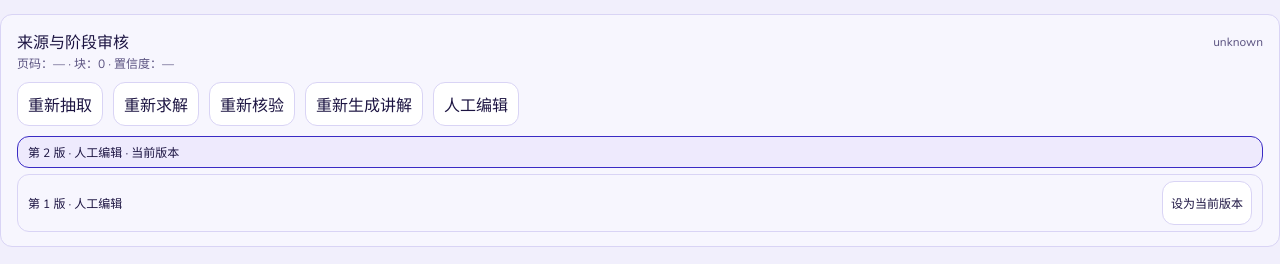
it: QuestionReviewPanel › 历史版本列表可以把某个旧版本设为当前版本
Expected: the list item "第 1 版 · 人工编辑 设为当前版本" is shown, x1=17 y1=174 x2=1263 y2=232
Click the button "设为当前版本": click(1207, 203) x1=1162 y1=181 x2=1252 y2=225
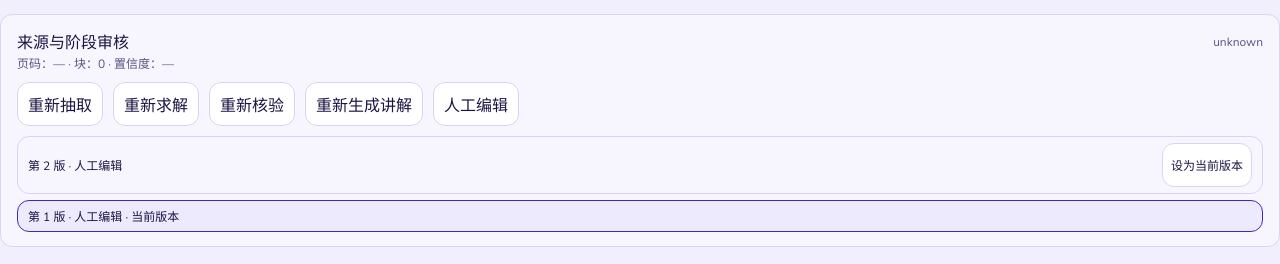
Expected: the text "第 1 版 · 人工编辑 · 当前版本" is shown, x1=28 y1=207 x2=179 y2=225
